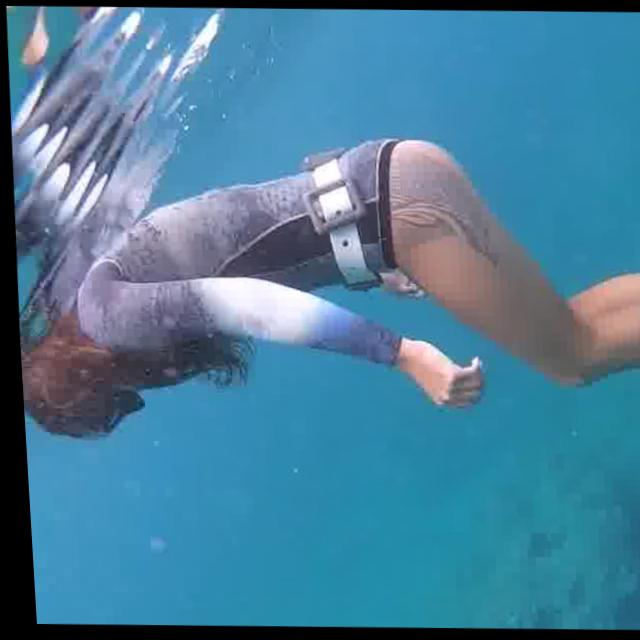human: (6, 117, 640, 462)
